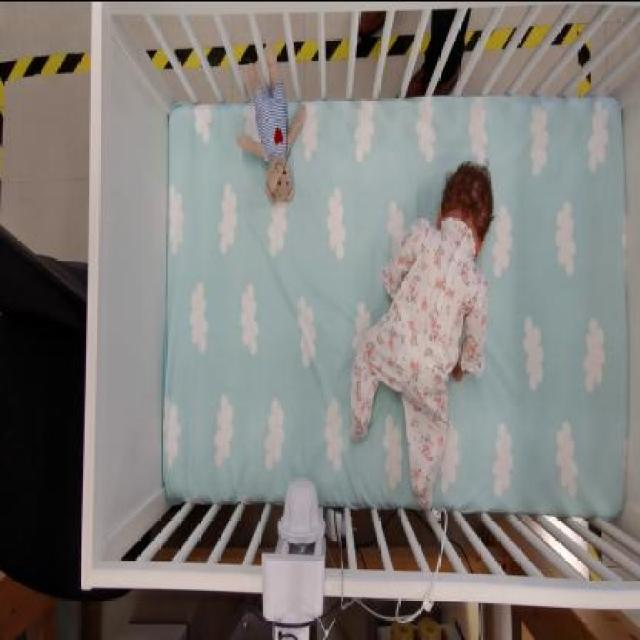baby: (349, 159, 496, 517)
